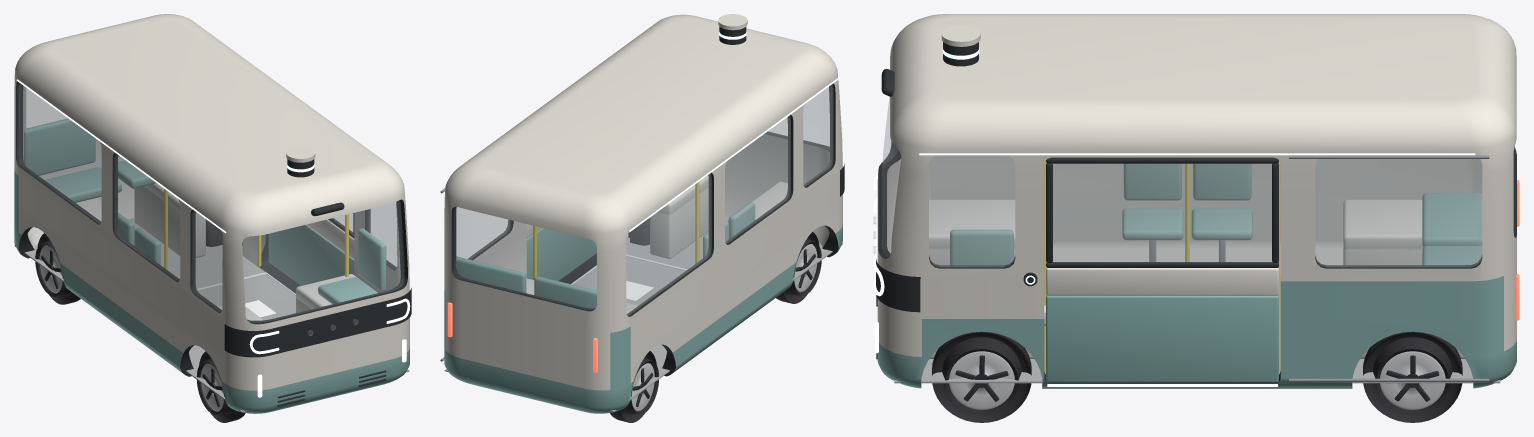
Rendered from autonomous-shuttle.glb.
The picture shows the model from 3 angles, left to right: view 1: azimuth 30°, elevation 25°; view 2: azimuth 150°, elevation 25°; view 3: azimuth 270°, elevation 25°; orthographic projection. The views are drawn at different scales.
Parts seen in each view (by area): view 1: shuttle_body, shuttle_glass, shuttle_fascia, shuttle_door, shuttle_floor, shuttle_bench_back-1, shuttle_well_wall+1-2, shuttle_wheelF-1, shuttle_wheelR-1, shuttle_front_back, shuttle_bench-1, shuttle_front_seat (+6 smaller); view 2: shuttle_body, shuttle_glass, shuttle_floor, shuttle_door, shuttle_well_wall+1+2, shuttle_wheelR-1, shuttle_wheelF-1, shuttle_bench_back+1, shuttle_bench_back-1, shuttle_well_top-1+2, shuttle_fold_back+0.32, shuttle_roofglow-1 (+4 smaller); view 3: shuttle_body, shuttle_door, shuttle_glass, shuttle_wheelF+1, shuttle_wheelR+1, shuttle_well_top-1-2, shuttle_bench-1, shuttle_well_top-1+2, shuttle_front_back, shuttle_fold_back+0.32, shuttle_fold_back-0.18, shuttle_fold_seat+0.32 (+11 smaller).
Boxes of the visible parts, <box> form: shuttle_body: <box>14,14,409,413</box>; shuttle_glass: <box>17,82,404,321</box>; shuttle_fascia: <box>224,288,411,357</box>; shuttle_door: <box>268,213,354,285</box>; shuttle_floor: <box>14,218,409,412</box>; shuttle_bench_back-1: <box>24,118,95,175</box>; shuttle_well_wall+1-2: <box>134,186,205,257</box>; shuttle_wheelF-1: <box>196,351,245,422</box>; shuttle_wheelR-1: <box>35,233,80,304</box>; shuttle_front_back: <box>358,228,386,291</box>; shuttle_bench-1: <box>45,167,121,202</box>; shuttle_front_seat: <box>318,277,377,304</box>; shuttle_body: <box>444,14,842,413</box>; shuttle_glass: <box>454,85,833,315</box>; shuttle_floor: <box>444,217,842,412</box>; shuttle_door: <box>526,224,596,280</box>; shuttle_well_wall+1+2: <box>650,187,708,258</box>; shuttle_wheelR-1: <box>610,351,658,422</box>; shuttle_wheelF-1: <box>776,231,821,303</box>; shuttle_bench_back+1: <box>455,256,526,292</box>; shuttle_bench_back-1: <box>534,276,596,308</box>; shuttle_well_top-1+2: <box>728,181,787,227</box>; shuttle_fold_back+0.32: <box>729,202,755,238</box>; shuttle_roofglow-1: <box>629,76,840,231</box>; shuttle_body: <box>877,14,1516,388</box>; shuttle_door: <box>1046,157,1278,382</box>; shuttle_glass: <box>882,97,1482,266</box>; shuttle_wheelF+1: <box>932,331,1031,422</box>; shuttle_wheelR+1: <box>1363,331,1462,422</box>; shuttle_well_top-1-2: <box>1343,199,1422,249</box>; shuttle_bench-1: <box>1422,193,1482,247</box>; shuttle_well_top-1+2: <box>929,199,1015,249</box>; shuttle_front_back: <box>950,229,1013,265</box>; shuttle_fold_back+0.32: <box>1123,163,1181,200</box>; shuttle_fold_back-0.18: <box>1193,163,1251,200</box>; shuttle_fold_seat+0.32: <box>1122,208,1183,240</box>.
Bounding box in the file's own units: 2.04 × 2.7 × 4.65.
